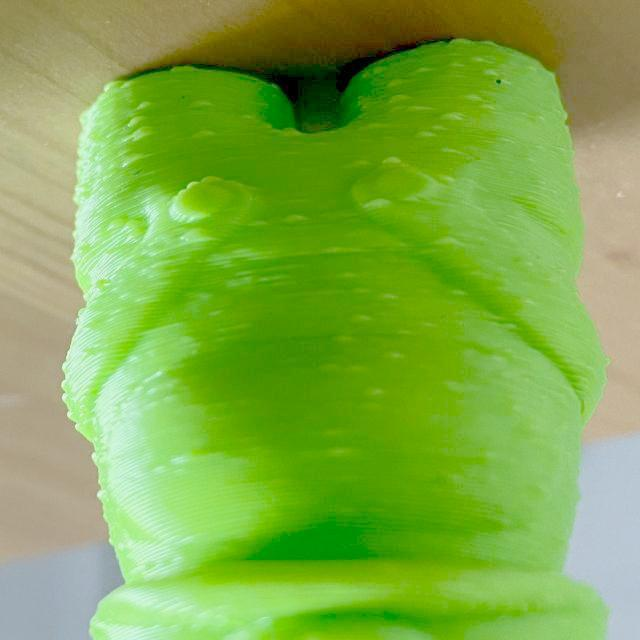zits: (361, 195, 398, 212), (358, 382, 388, 402), (274, 125, 306, 141), (282, 210, 310, 226), (132, 124, 156, 141), (379, 289, 404, 305), (330, 331, 356, 346), (382, 153, 404, 170), (442, 106, 465, 122), (381, 348, 406, 362), (193, 125, 214, 141), (352, 312, 374, 326), (406, 102, 431, 114), (336, 268, 356, 282), (438, 234, 458, 247), (465, 52, 486, 64), (480, 66, 501, 78), (199, 172, 224, 182), (448, 288, 468, 300), (416, 127, 436, 139), (128, 114, 146, 127), (190, 98, 211, 109), (433, 172, 454, 183), (367, 120, 386, 132), (136, 98, 152, 112), (350, 156, 368, 168), (387, 90, 405, 102), (410, 64, 431, 74), (388, 77, 404, 87)
